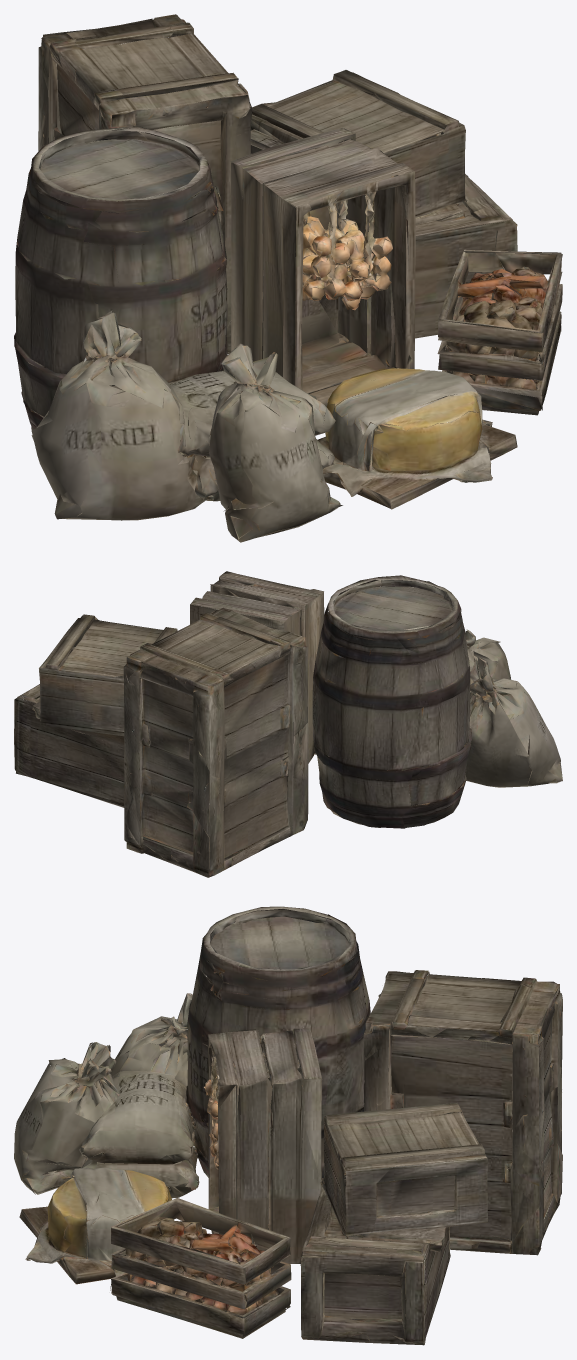
Rendered from provisions-stock-cluster.glb.
3 views of the same model, one above another, from view 1: azimuth 30°, elevation 25°; view 2: azimuth 150°, elevation 25°; view 3: azimuth 270°, elevation 25° (orthographic). The views are drawn at different scales.
Visible parts, largest first — view 1: Mesh_0; view 2: Mesh_0; view 3: Mesh_0.
Boxes of the visible parts, x1=… form: Mesh_0: x1=14, y1=14, x2=562, y2=542; Mesh_0: x1=14, y1=571, x2=562, y2=877; Mesh_0: x1=14, y1=906, x2=562, y2=1345.
Size of the model in its own units: 1.9 by 0.8567 by 1.84.
Materials: 1 (1 with a texture image).
